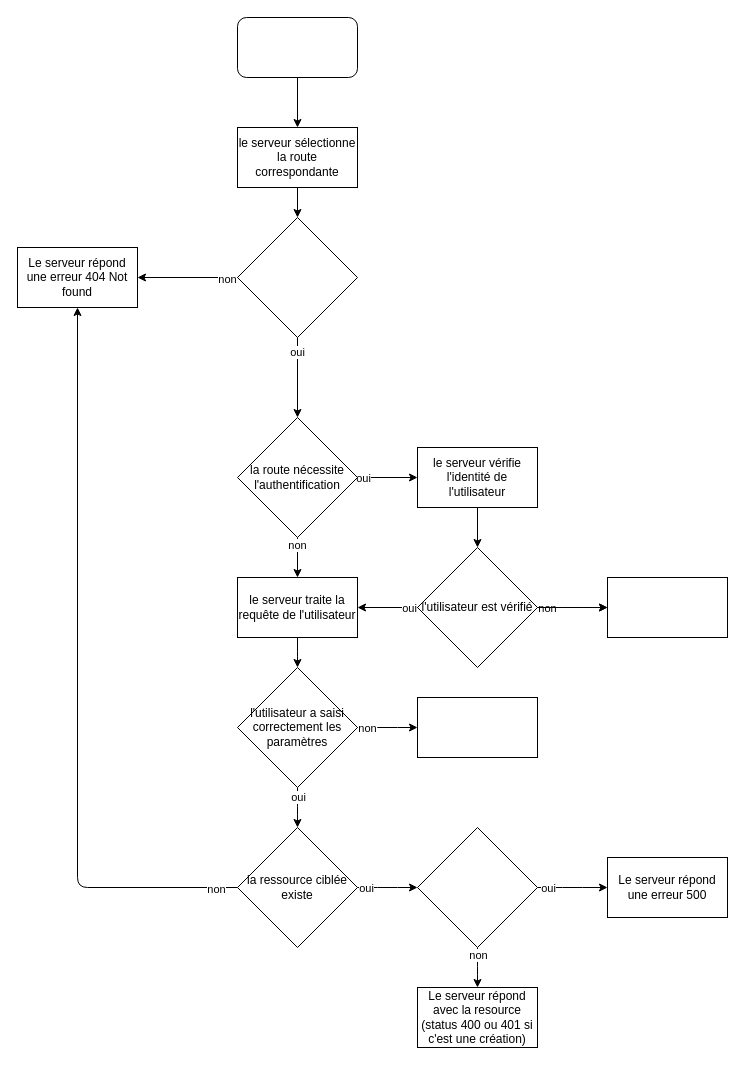
Some shapes in this 745 by 1065 pixel diagram are drawn without their labels. Each missing label, with the box of its shape:
l'utilisateur envoie une requête au serveur: (236, 16, 358, 78)
la route existe: (236, 216, 358, 338)
le serveur répond une erreur 400: (416, 696, 538, 758)
le serveur répond une erreur 401 Unauthorized: (606, 576, 728, 638)
une erreur se produit dans le processus de traitement: (416, 826, 538, 948)
